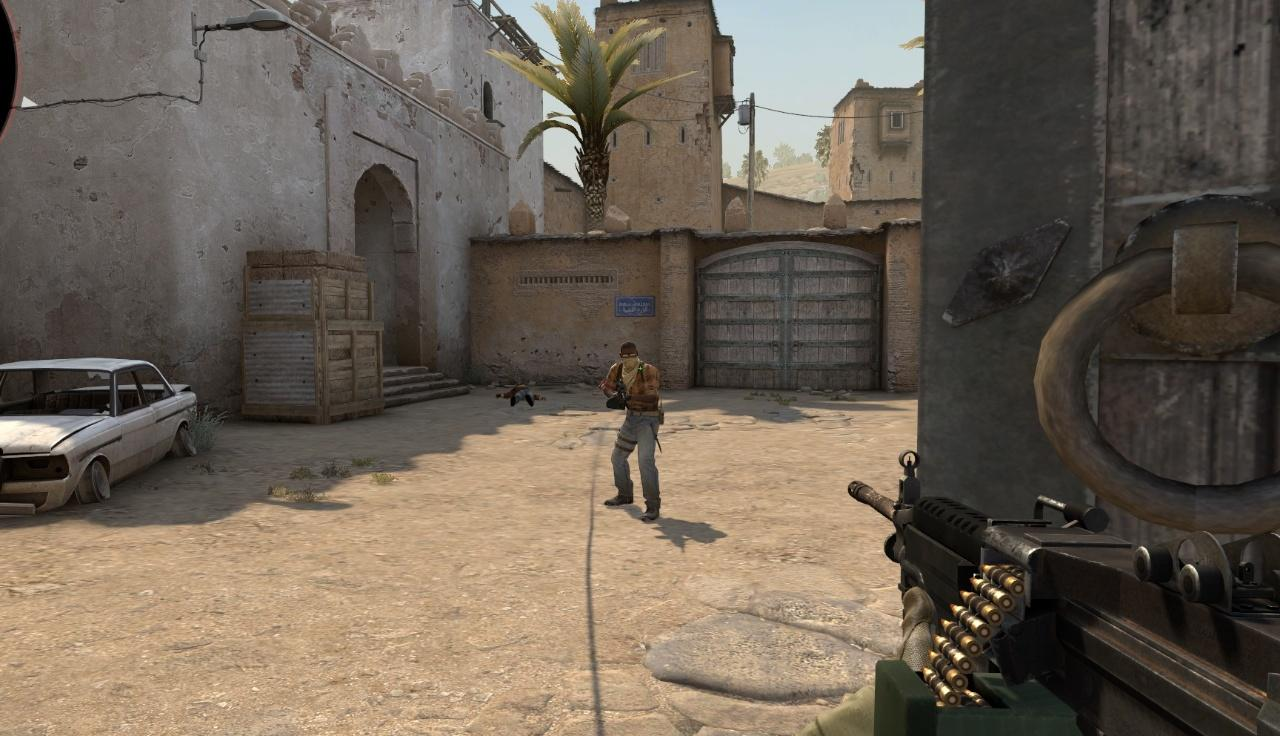rifle: (851, 453, 1280, 736)
tt: (607, 344, 660, 521)
tthead: (620, 344, 637, 368)
